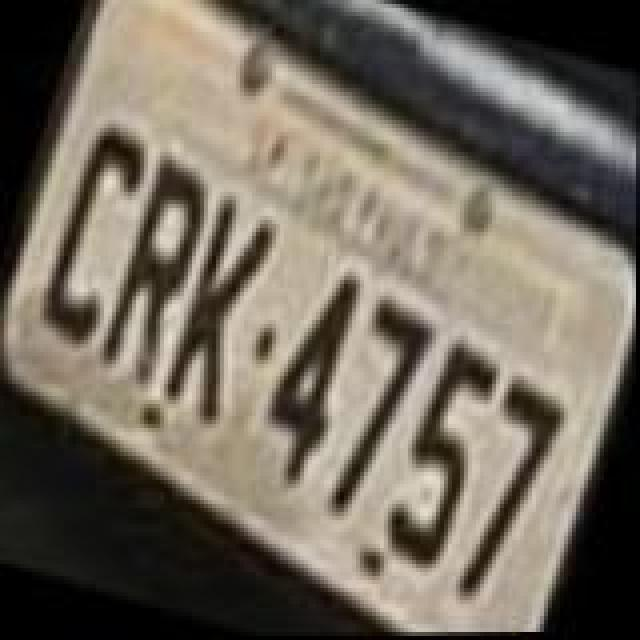4: (244, 258, 376, 494)
5: (368, 330, 508, 578)
7: (440, 366, 576, 610), (308, 288, 444, 524)
C: (24, 112, 160, 348)
K: (152, 184, 288, 428)
R: (92, 146, 224, 382)
